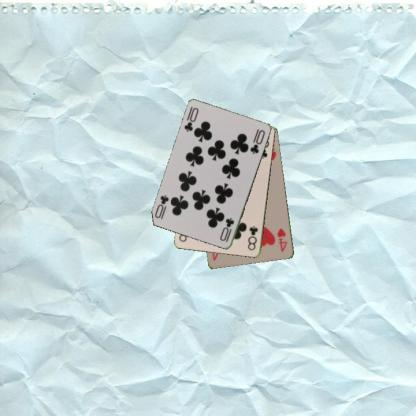10c: (181, 105, 200, 133), (217, 216, 236, 243)
4h: (274, 226, 289, 254)
8c: (245, 224, 260, 252)
